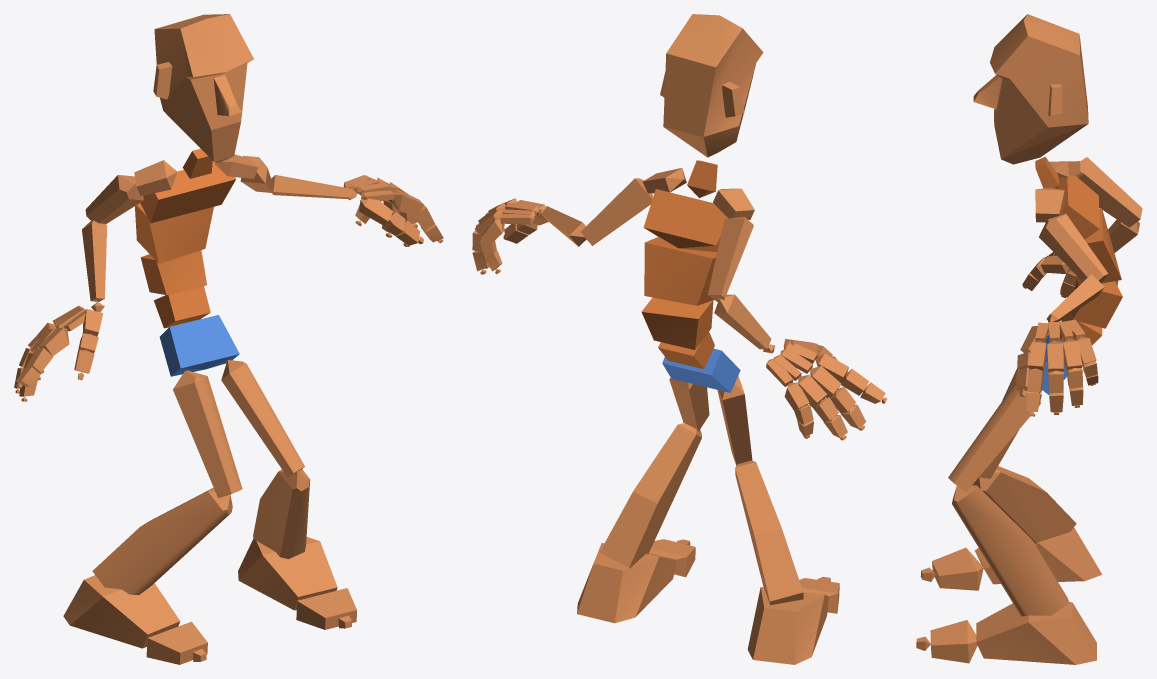
Rendered from prueba32.obj.
The picture shows the model from 3 angles, left to right: view 1: azimuth 30°, elevation 25°; view 2: azimuth 150°, elevation 25°; view 3: azimuth 270°, elevation 25°; orthographic projection.
Parts seen in each view (by area): view 1: BOPED_Head, BOPED_R_leg, BOPED_R_foot, BOPED_R_foot01, BOPED_R_legup, BOPED_L_leg, Bone01, BOPED_L_legup, Bone04, Bone05, Bone03, BOPED_R_foot_toe01 (+9 smaller); view 2: BOPED_Head, BOPED_L_leg, BOPED_R_foot01, BOPED_R_leg, BOPED_R_foot, Bone04, Bone05, Bone03, BOPED_R_arm_upper, BOPED_L_arm_upper, Bone01, BOPED_R_legup (+9 smaller); view 3: BOPED_Head, BOPED_L_leg, BOPED_R_foot01, BOPED_R_leg, BOPED_L_legup, BOPED_R_foot, BOPED_L_arm_upper, BOPED_R_arm_upper, Bone05, BOPED_R_foot_toe01, BOPED_R_foot_toe04, Bone03 (+15 smaller).
Part boxes in pixels (x1,y1,x2,y2): BOPED_Head: (153, 14, 253, 162); BOPED_R_leg: (92, 487, 232, 594); BOPED_R_foot: (63, 575, 180, 648); BOPED_R_foot01: (238, 537, 337, 610); BOPED_R_legup: (173, 370, 242, 498); BOPED_L_leg: (253, 469, 310, 559); Bone01: (159, 315, 239, 376); BOPED_L_legup: (221, 360, 304, 477); Bone04: (135, 203, 213, 263); Bone05: (140, 162, 235, 223); Bone03: (140, 250, 206, 295); BOPED_R_foot_toe01: (146, 621, 207, 664); BOPED_Head: (660, 14, 763, 157); BOPED_L_leg: (600, 423, 701, 568); BOPED_R_foot01: (577, 543, 676, 623); BOPED_R_leg: (735, 460, 803, 605); BOPED_R_foot: (747, 587, 828, 664); Bone04: (644, 237, 716, 305); Bone05: (643, 189, 727, 251); Bone03: (641, 297, 713, 349); BOPED_R_arm_upper: (708, 216, 753, 301); BOPED_L_arm_upper: (581, 178, 652, 245); Bone01: (662, 348, 740, 392); BOPED_R_legup: (717, 376, 752, 465); BOPED_Head: (973, 14, 1088, 164); BOPED_L_leg: (952, 485, 1069, 616); BOPED_R_foot01: (976, 602, 1096, 664); BOPED_R_leg: (972, 466, 1076, 543); BOPED_L_legup: (948, 382, 1041, 491); BOPED_R_foot: (974, 527, 1102, 584); BOPED_L_arm_upper: (1039, 214, 1108, 282); BOPED_R_arm_upper: (1075, 157, 1142, 227); Bone05: (1057, 175, 1099, 239); BOPED_R_foot_toe01: (932, 547, 983, 590); BOPED_R_foot_toe04: (930, 620, 977, 663); Bone03: (1072, 279, 1122, 328).
Bounding box in the file's own units: 130 × 178 × 61.86.
